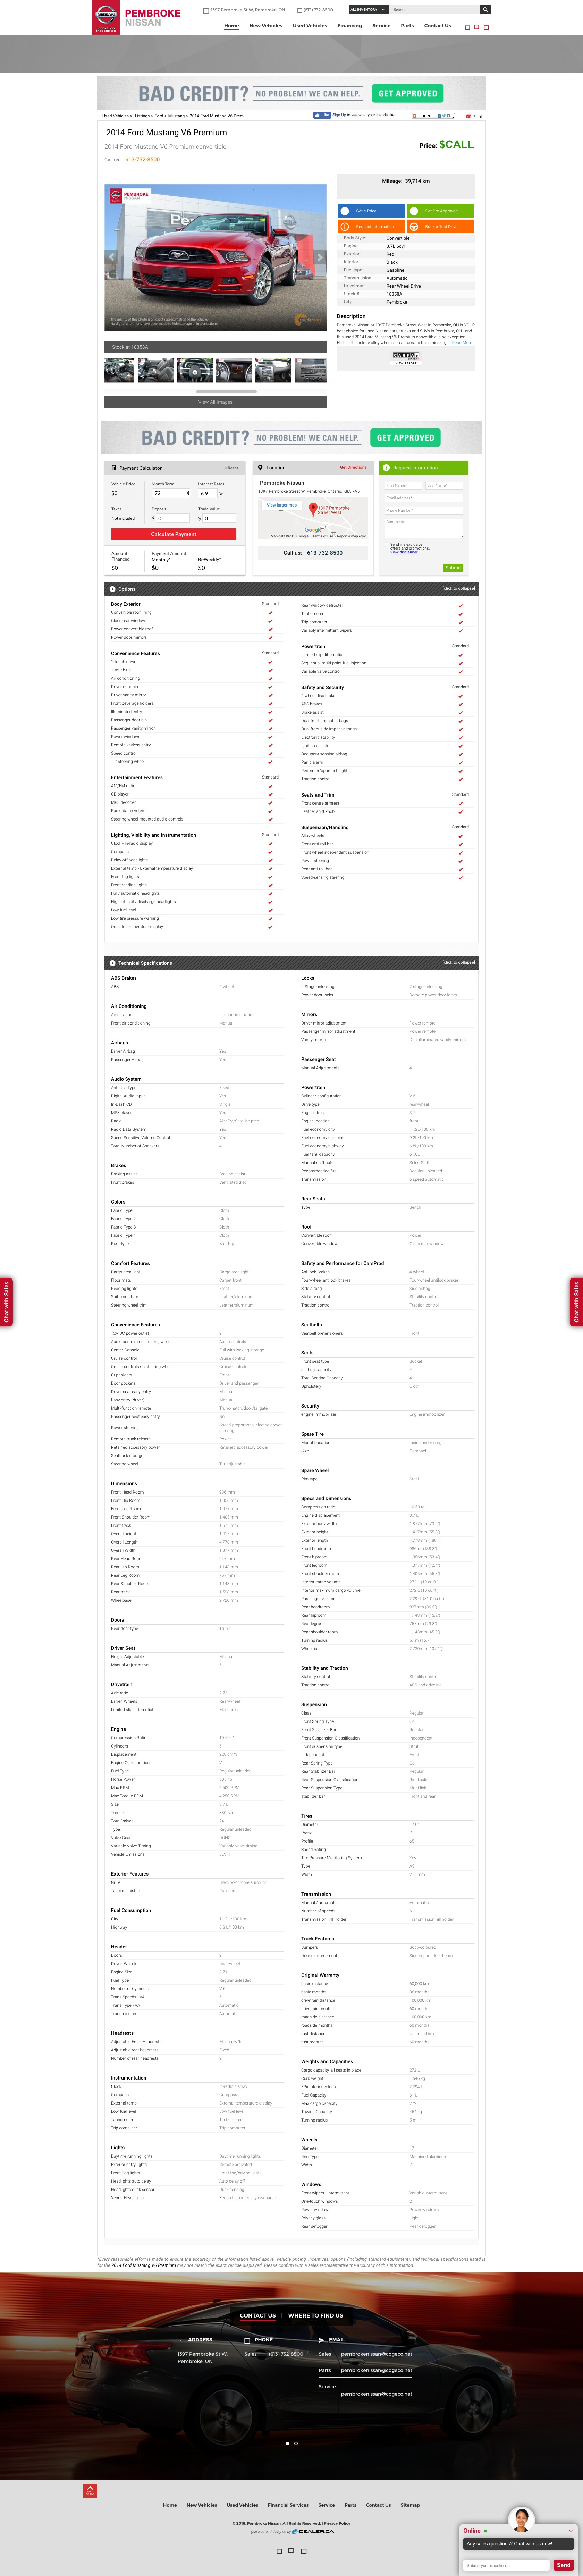car: (312, 250, 328, 266)
